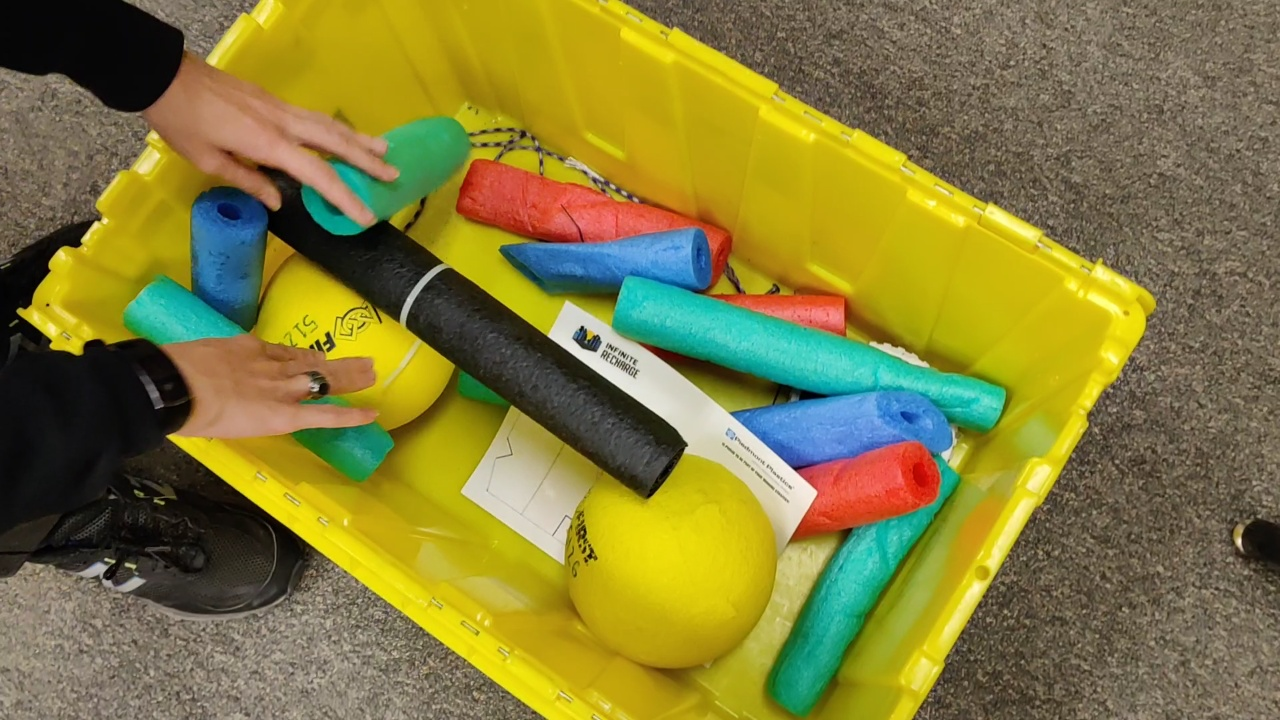Ball: (568, 455, 771, 670), (258, 250, 455, 433)
